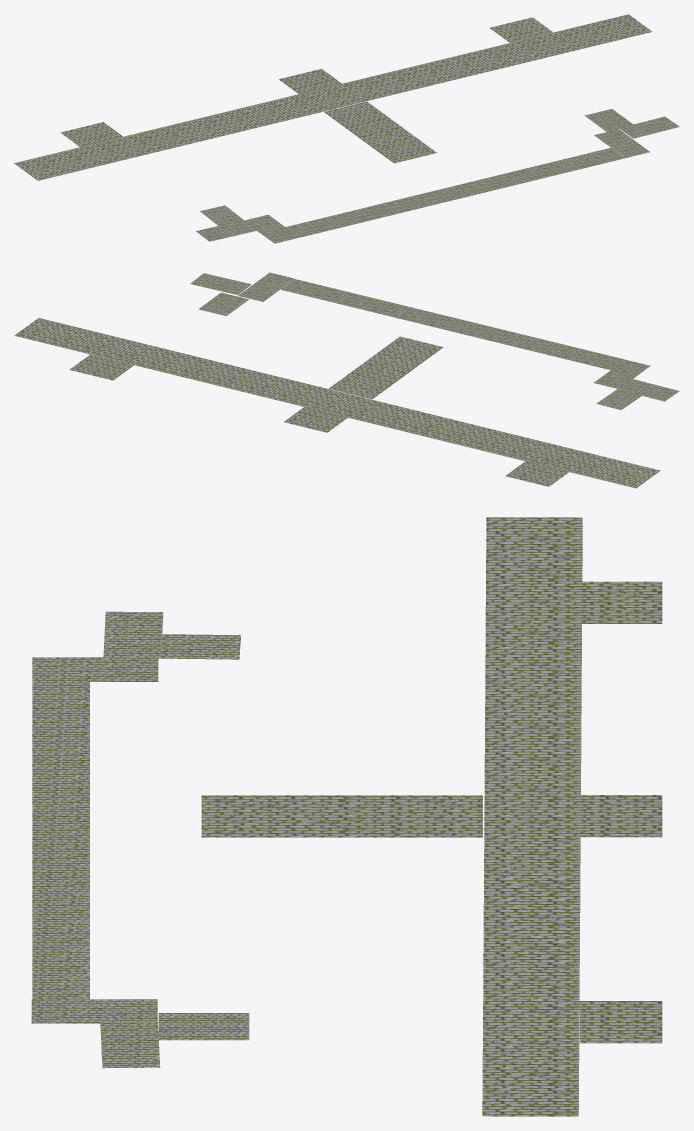
File: caminotemplos.fbx
3 views of the same model, one above another, from view 1: azimuth 30°, elevation 25°; view 2: azimuth 150°, elevation 25°; view 3: azimuth 270°, elevation 25° (orthographic). The views are drawn at different scales.
Visible parts, largest first — view 1: Plane.005; view 2: Plane.005; view 3: Plane.005.
Boxes of the visible parts, <box> form: Plane.005: <box>14,14,679,243</box>; Plane.005: <box>14,272,679,488</box>; Plane.005: <box>31,517,662,1116</box>.
Size of the model in its own units: 1747 by 27.58 by 777.
1 material, 1 textured.
